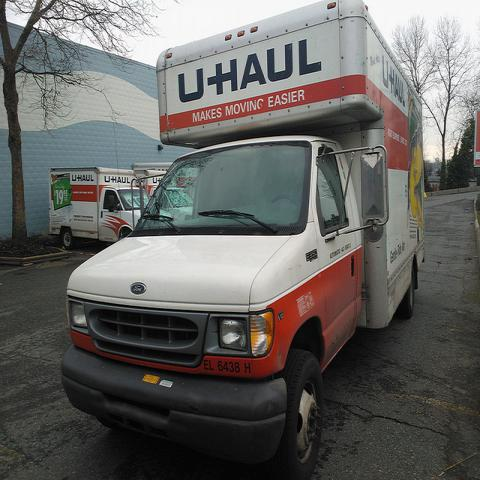truck: (47, 0, 429, 474), (48, 163, 142, 256), (132, 162, 174, 210)
